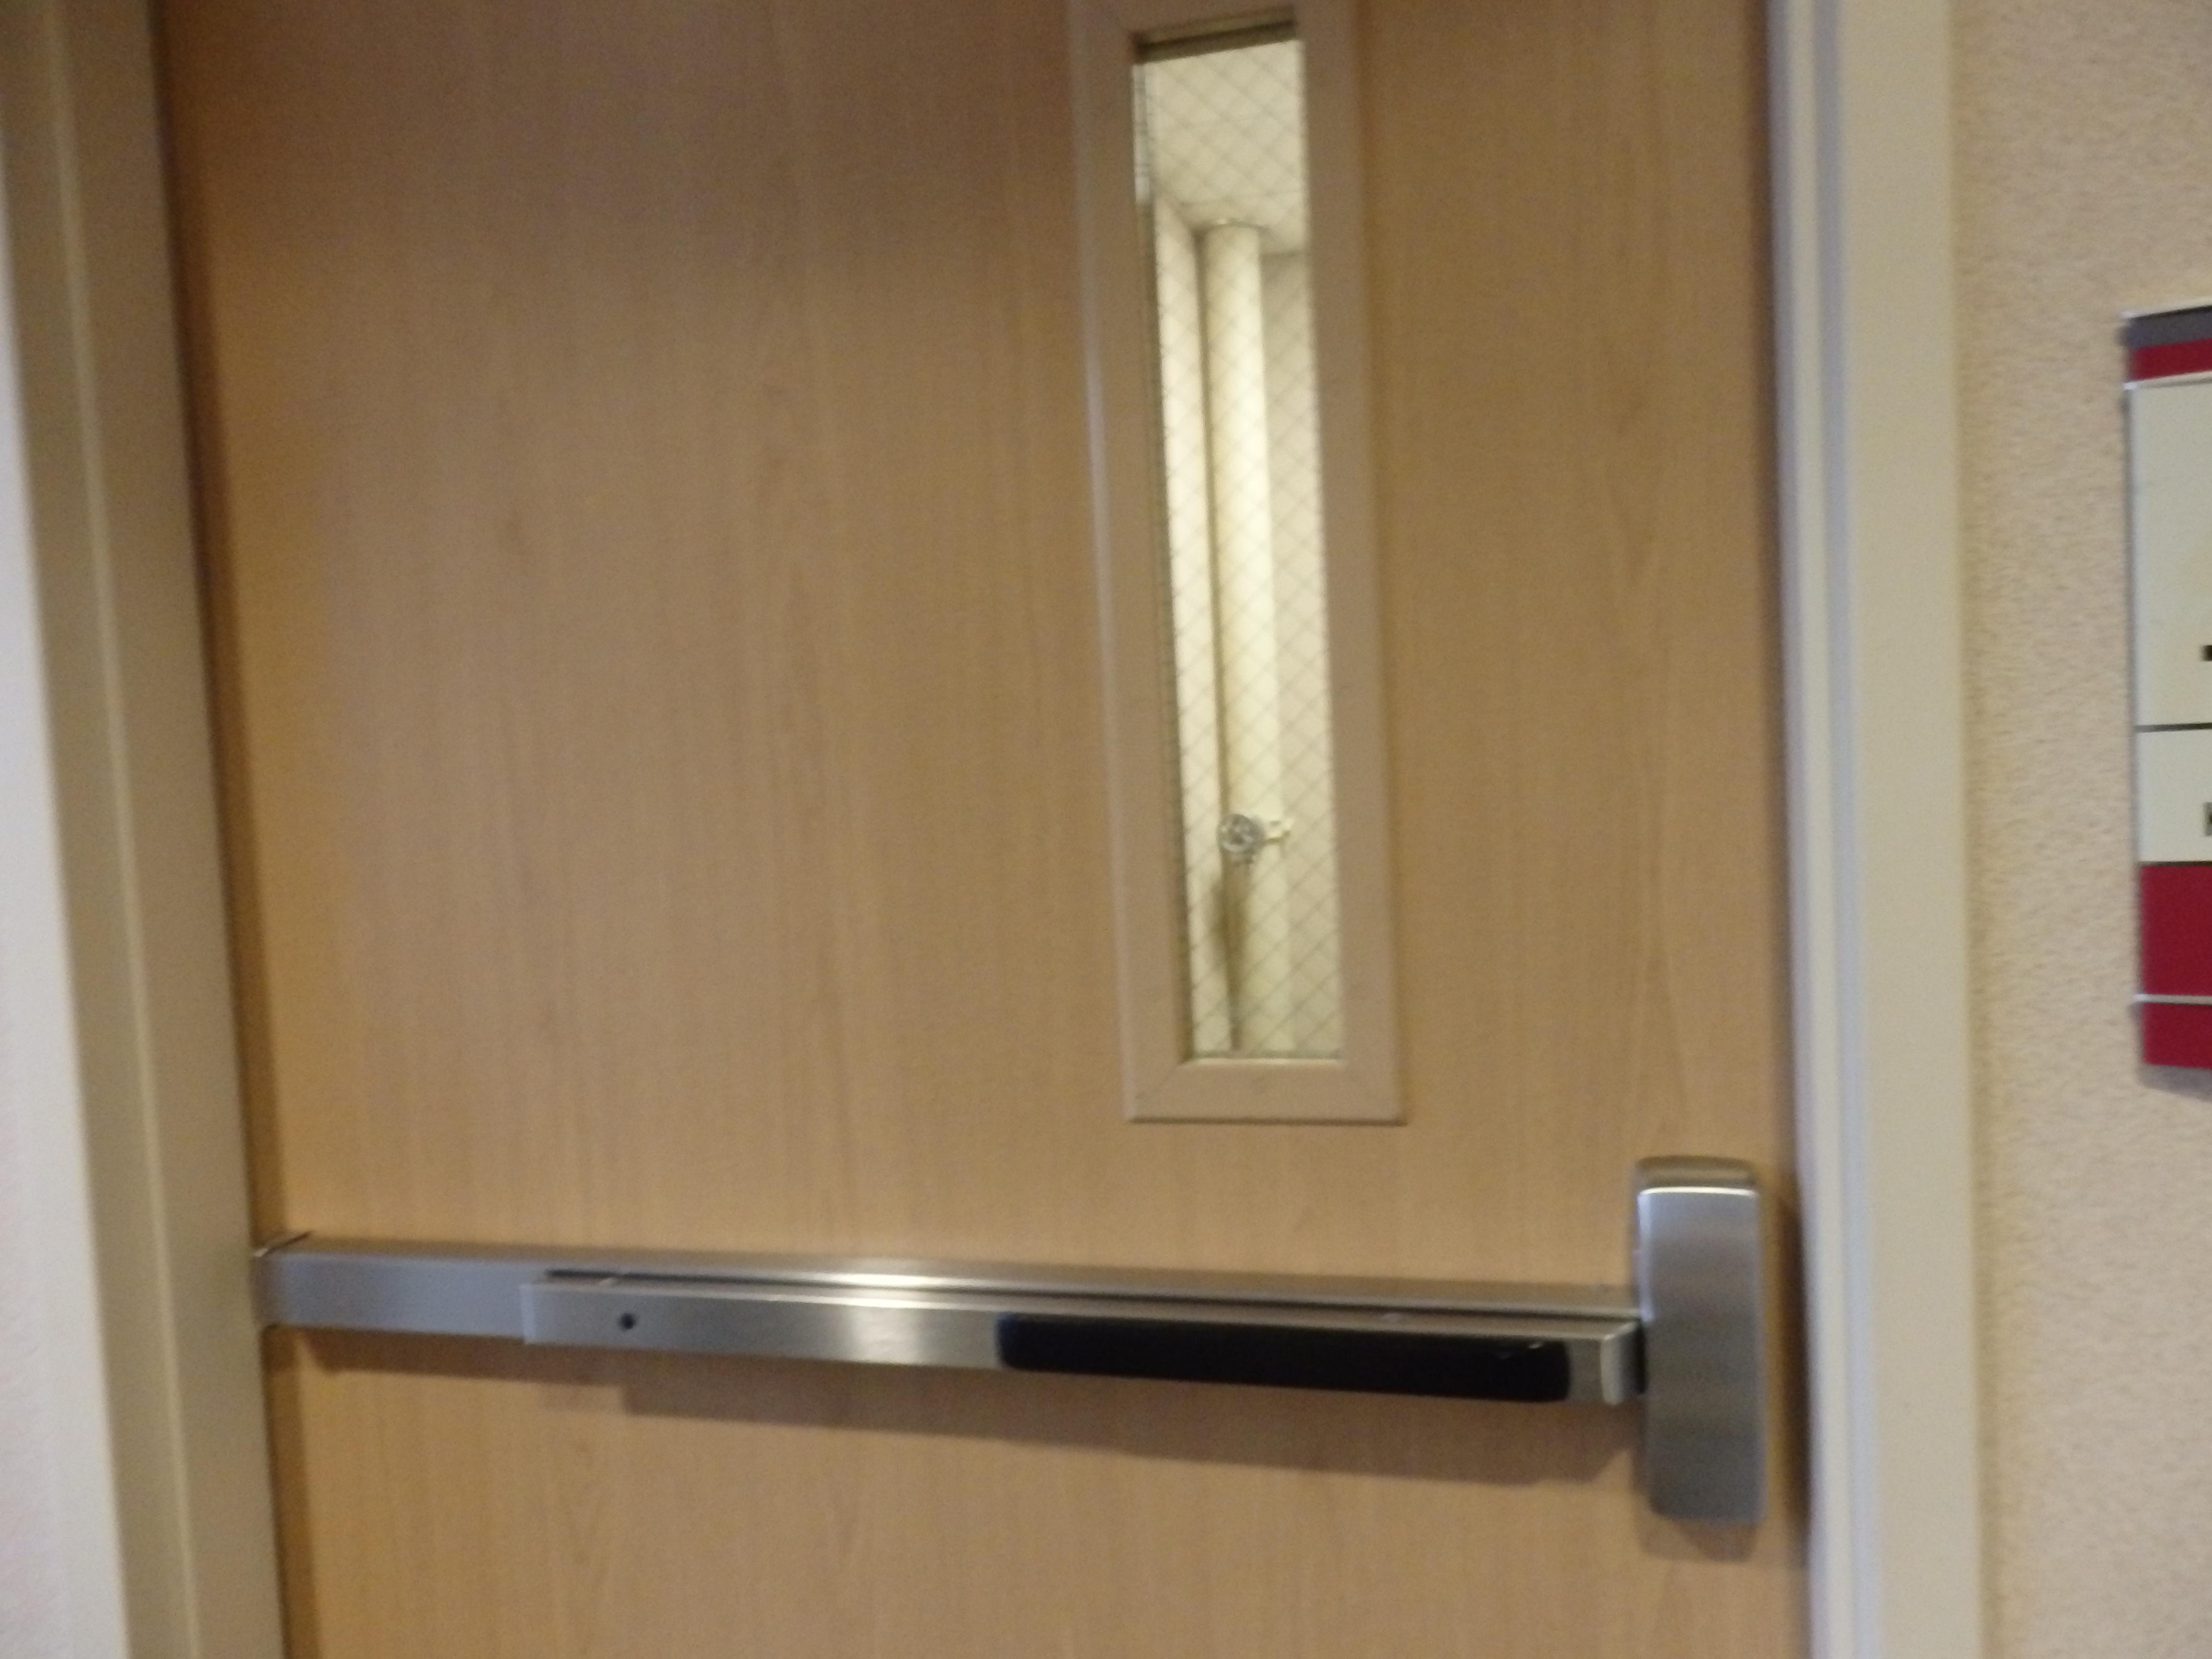door: (148, 3, 1822, 1659)
